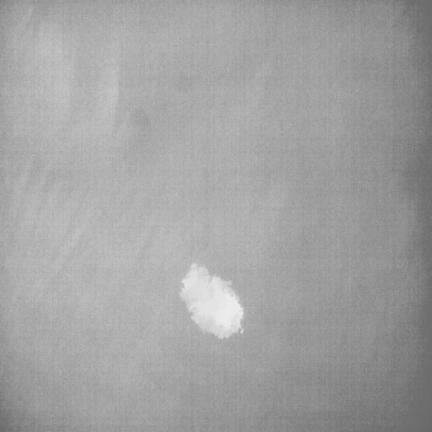flukeprints: (180, 264, 243, 338)
